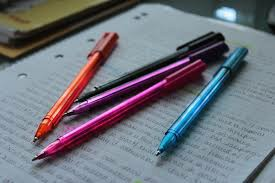pen: (40, 62, 199, 153), (65, 44, 226, 113), (161, 47, 246, 154), (93, 28, 228, 89), (36, 31, 113, 134)
